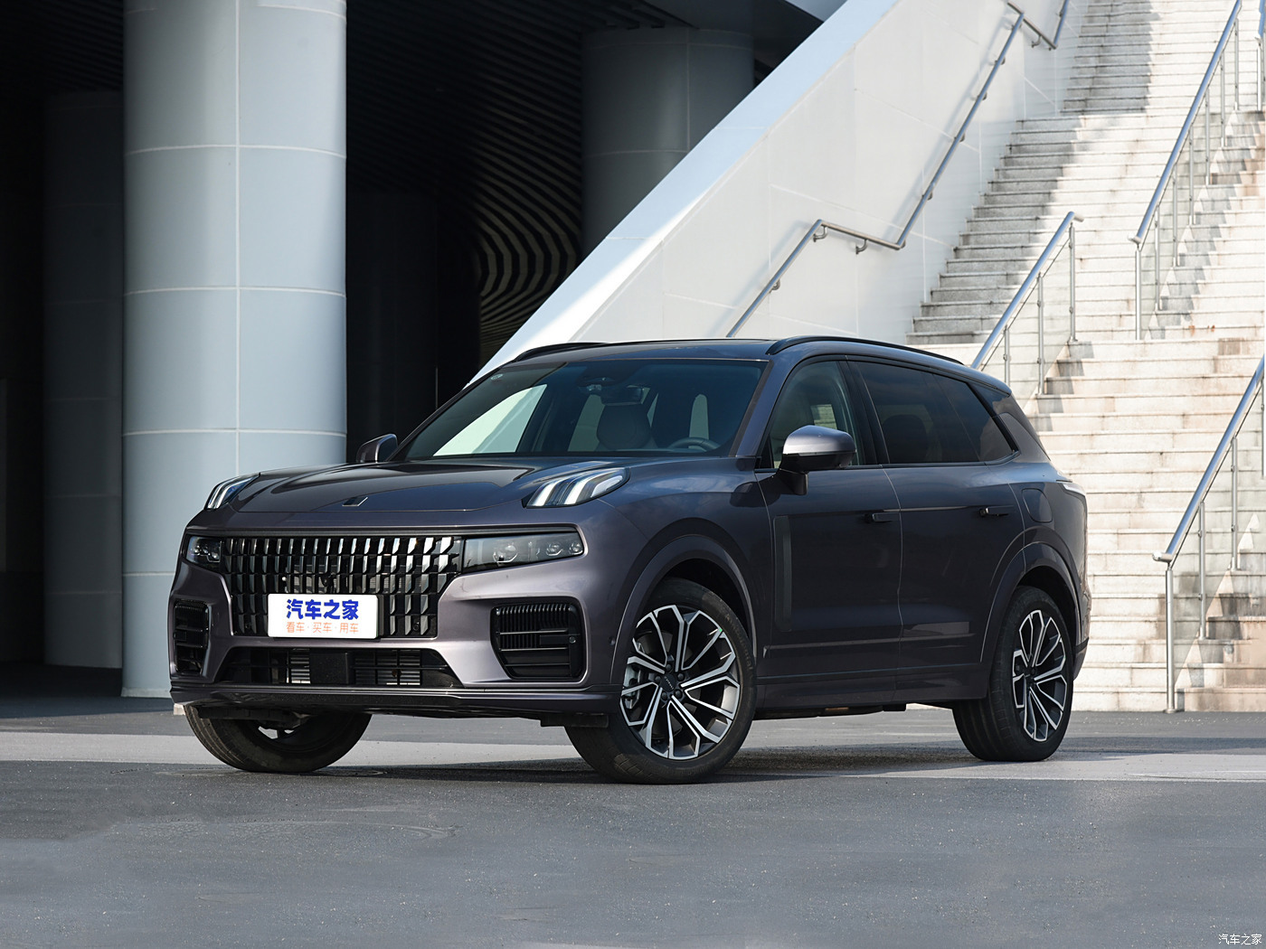LINK&CO: (342, 496, 369, 506)
